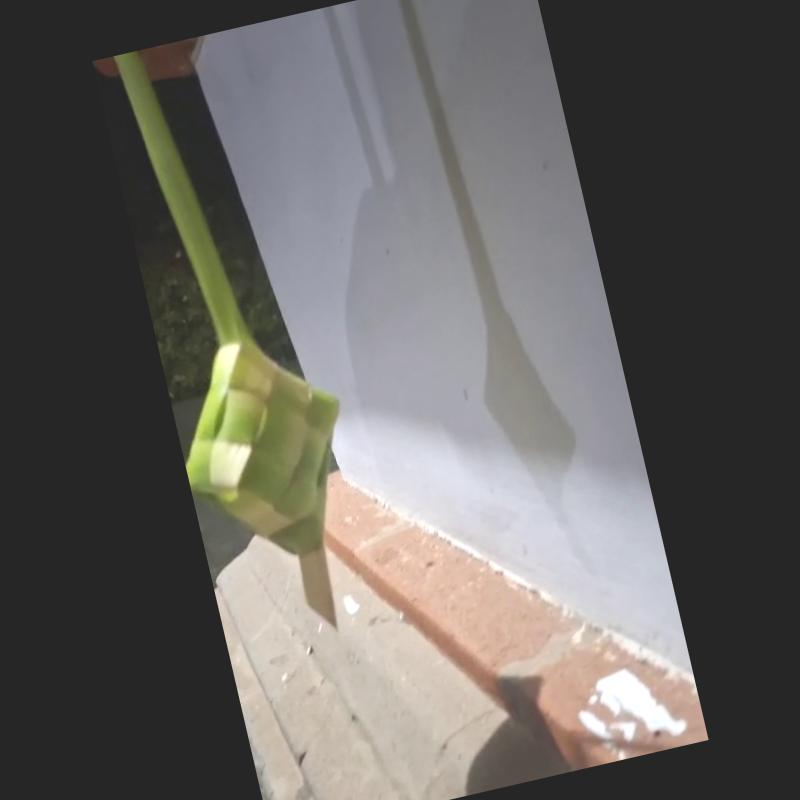Tipat Nasi: (184, 336, 340, 622)
